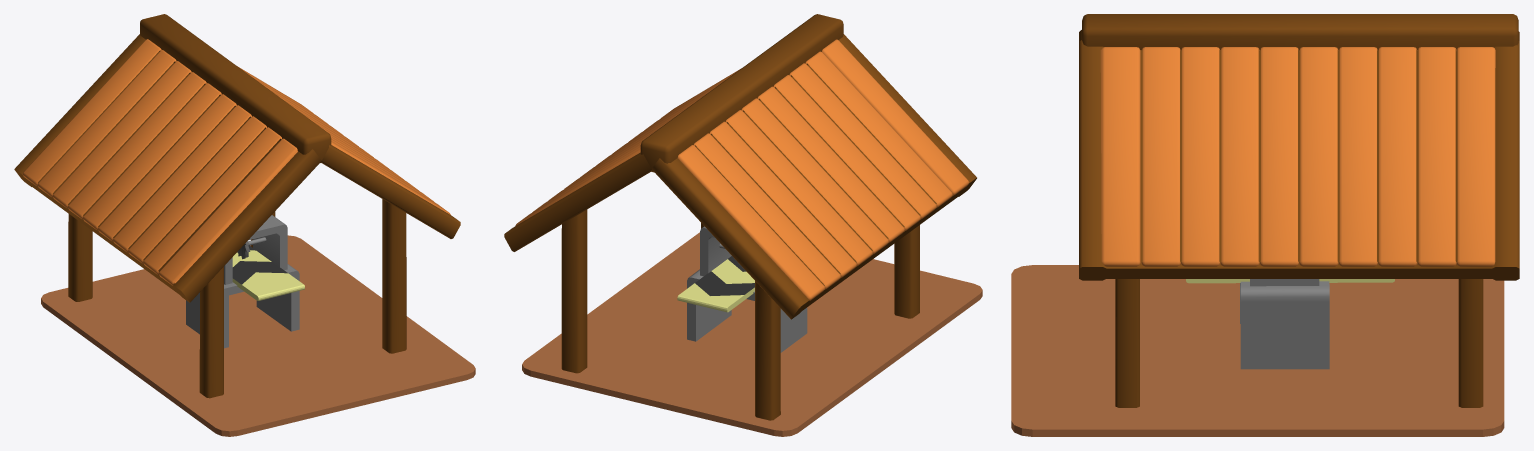
Rendered from lumber jack level 2.fbx.
3 views of the same model, side by side, from view 1: azimuth 30°, elevation 25°; view 2: azimuth 150°, elevation 25°; view 3: azimuth 270°, elevation 25° (orthographic). The views are drawn at different scales.
Visible parts, largest first — view 1: Cylinder.011, Cube.017, Cube.018; view 2: Cylinder.011, Cube.017, Cube.018; view 3: Cylinder.011, Cube.017, Cube.018.
Boxes of the visible parts, <box> form: Cylinder.011: <box>14,14,475,436</box>; Cube.017: <box>186,215,299,348</box>; Cube.018: <box>232,245,304,300</box>; Cylinder.011: <box>504,14,982,436</box>; Cube.017: <box>687,226,807,352</box>; Cube.018: <box>677,256,754,312</box>; Cylinder.011: <box>1011,14,1519,436</box>; Cube.017: <box>1240,279,1329,369</box>; Cube.018: <box>1186,279,1394,283</box>.
Bounding box in the file's own units: 4283 × 3681 × 5138.
